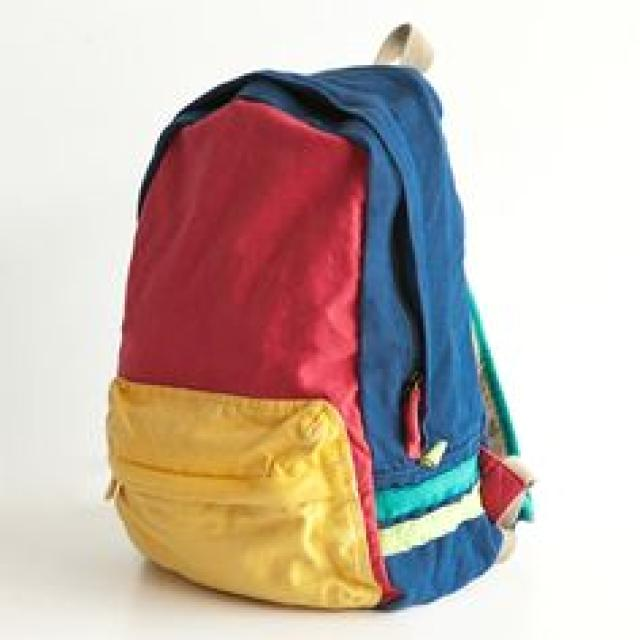backpack: (104, 28, 535, 611)
